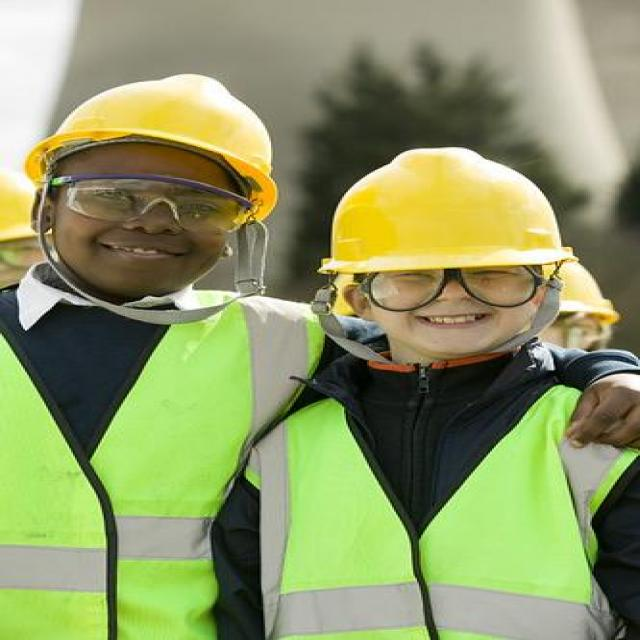Reflective-Jacket: (2, 277, 313, 634), (244, 361, 629, 634)
Safety-Helmet: (316, 144, 582, 278), (19, 68, 284, 202)
